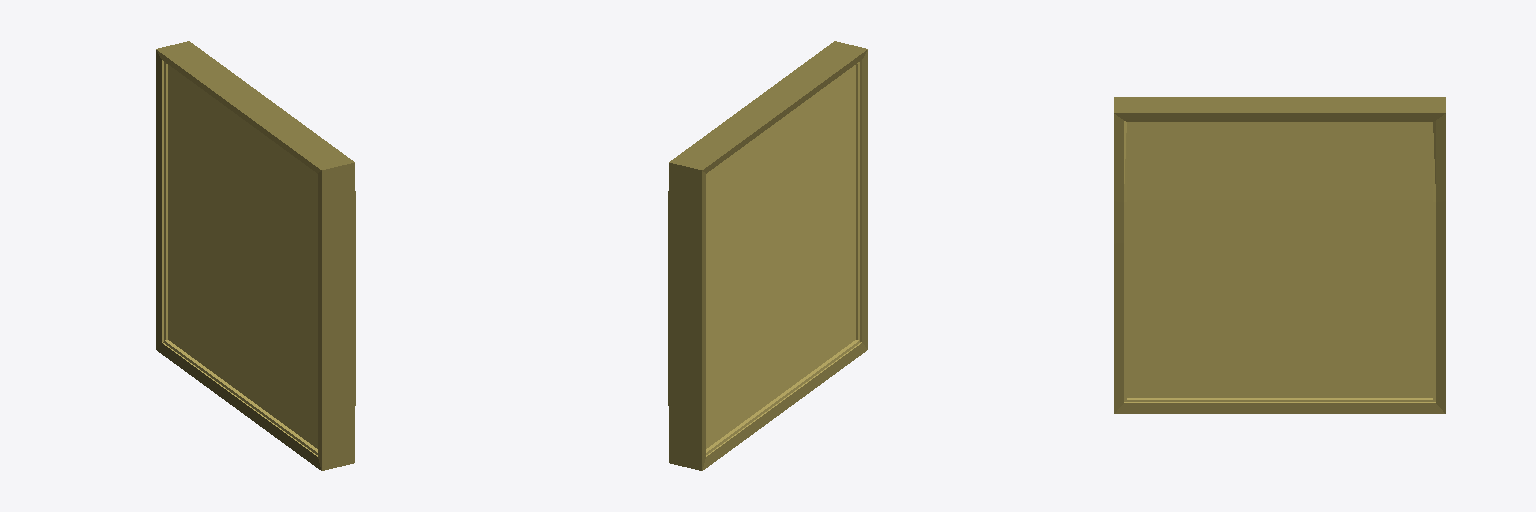
Rendered from simpleWall.obj.
The picture shows the model from 3 angles: view 1: azimuth 30°, elevation 25°; view 2: azimuth 150°, elevation 25°; view 3: azimuth 270°, elevation 25°; orthographic projection.
Parts seen in each view (by area): view 1: Wall1.001_Cube.009; view 2: Wall1.001_Cube.009; view 3: Wall1.001_Cube.009.
Boxes of the visible parts, x1,y1,x2,y2 form: Wall1.001_Cube.009: [156, 41, 355, 470]; Wall1.001_Cube.009: [668, 41, 867, 470]; Wall1.001_Cube.009: [1114, 97, 1445, 413].
Size of the model in its own units: 0.1275 by 1.06 by 1.06.